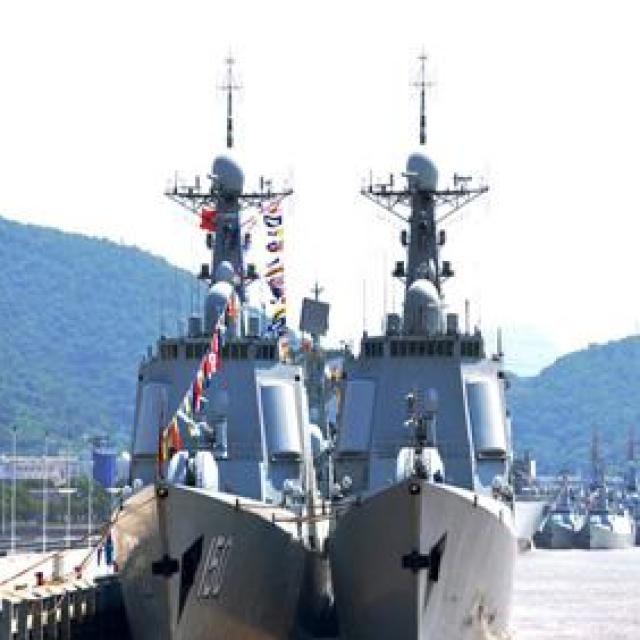navalvessels: (111, 63, 331, 640), (318, 66, 529, 640), (579, 466, 636, 556), (533, 462, 585, 549)
